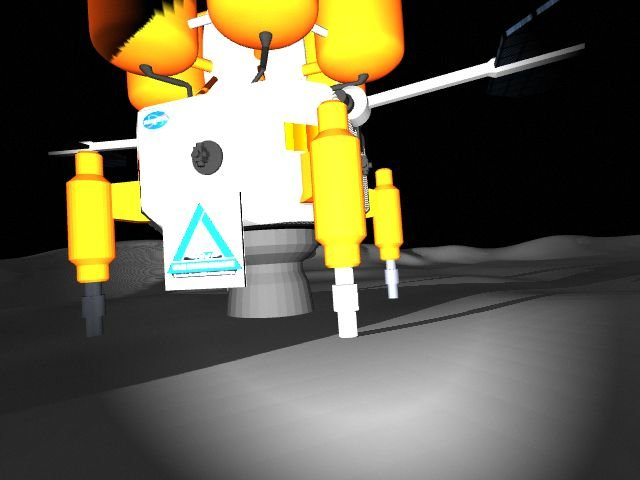basemarker: (168, 201, 243, 281)
